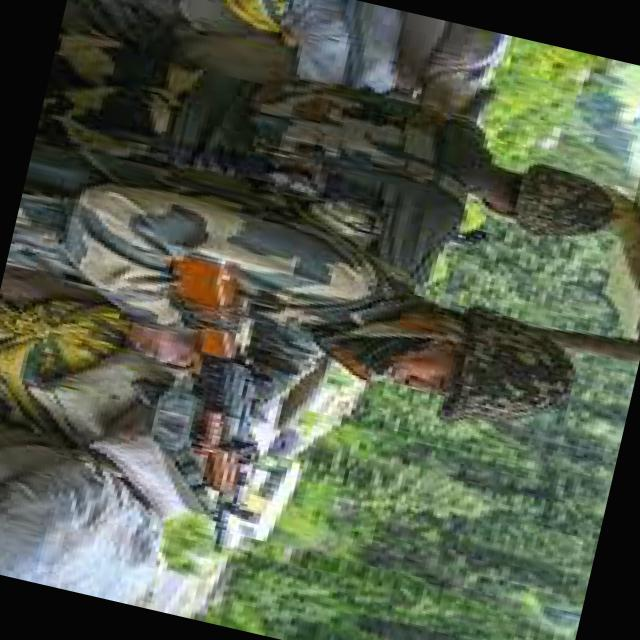long weapon: (103, 231, 251, 565)
